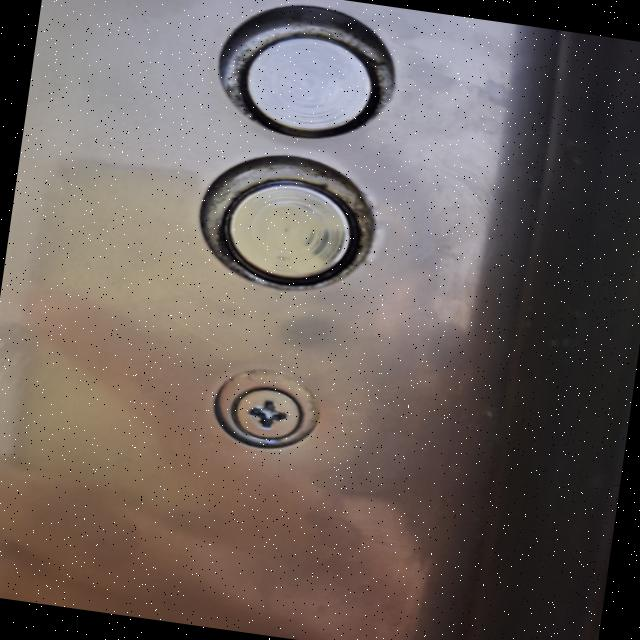Phillips: (227, 382, 315, 450)
